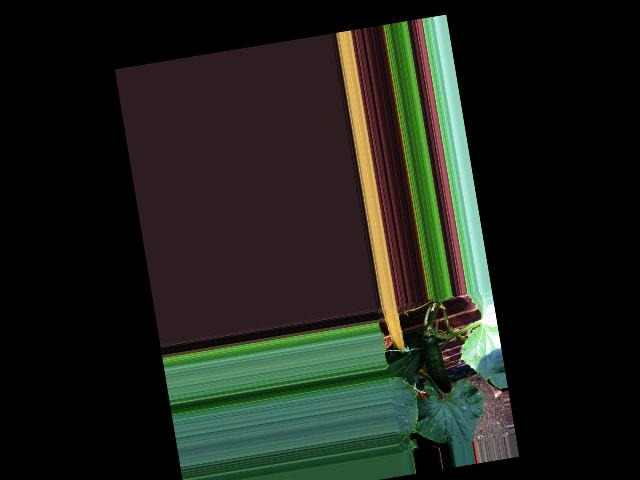cucumber: (420, 332, 453, 396)
